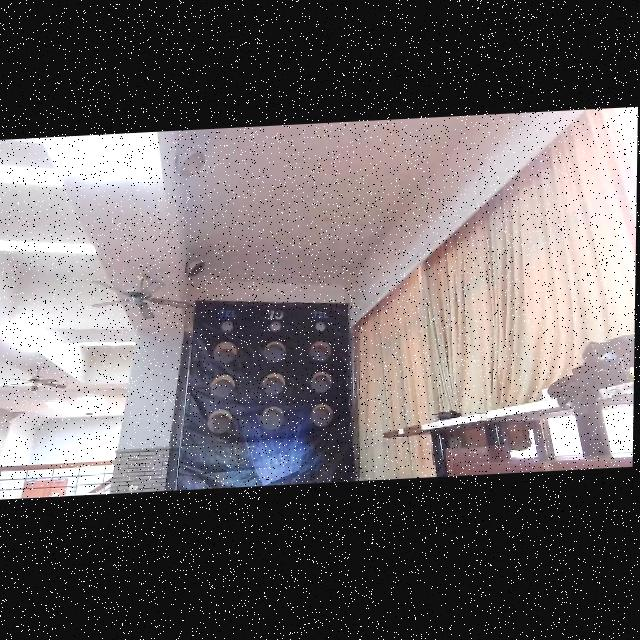hole: (208, 408, 233, 434), (211, 373, 235, 398), (261, 372, 286, 395), (262, 406, 285, 431), (311, 403, 334, 427), (214, 341, 237, 364), (264, 341, 286, 363), (310, 340, 331, 362), (221, 320, 233, 332), (270, 321, 282, 332), (315, 321, 325, 332)
